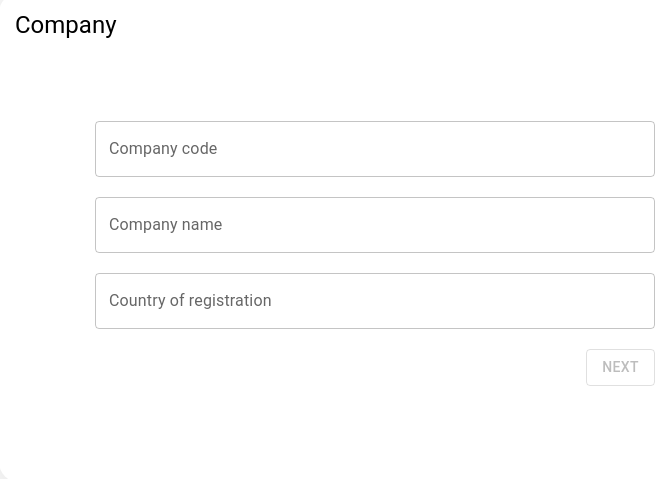
Test: second step › renders name field
In the field labelled "Company code": (375, 149) [95, 121, 655, 177], type "test"
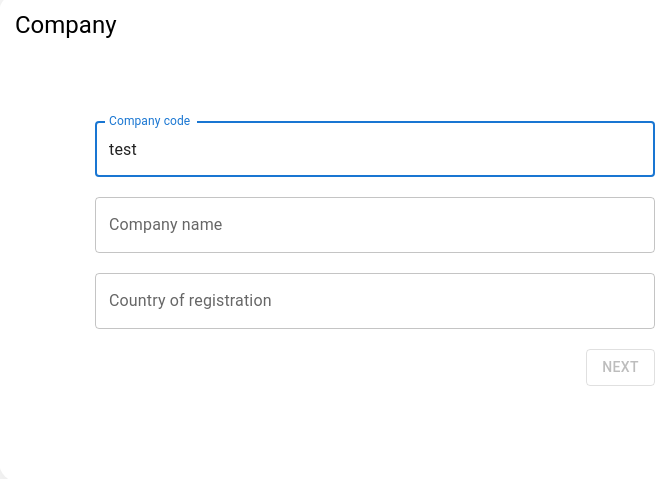
In the field labelled "Company name": (375, 225) [95, 197, 655, 253], type "test"
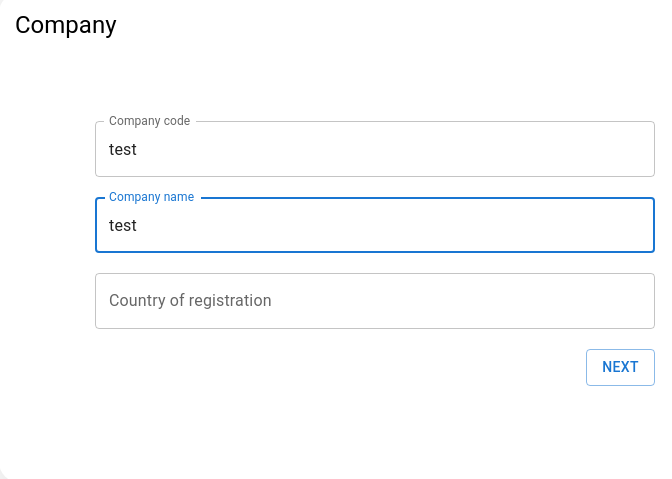
In the field labelled "Country of registration": (375, 301) [95, 273, 655, 329], type "test"
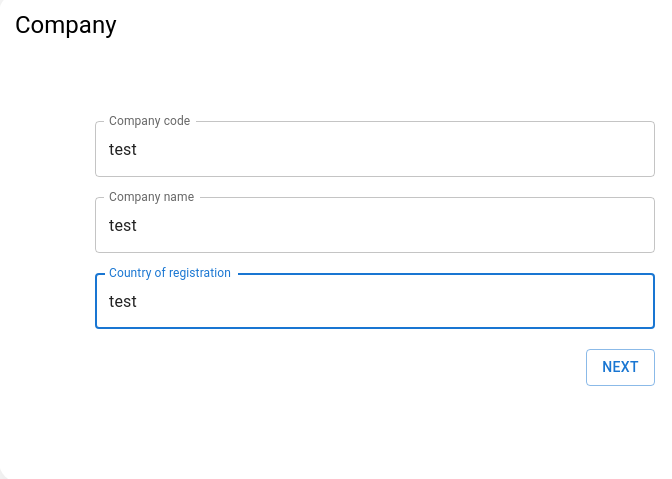
Click the button "Next": (621, 367) [586, 349, 655, 386]
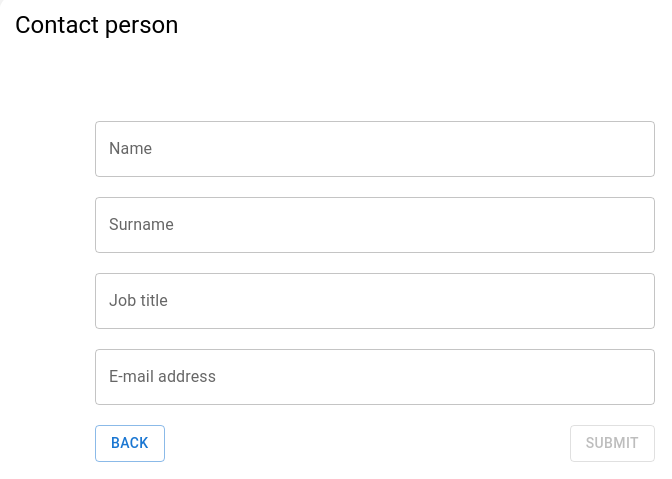
Now the field labelled "Name" is shown, box [95, 121, 655, 177]
